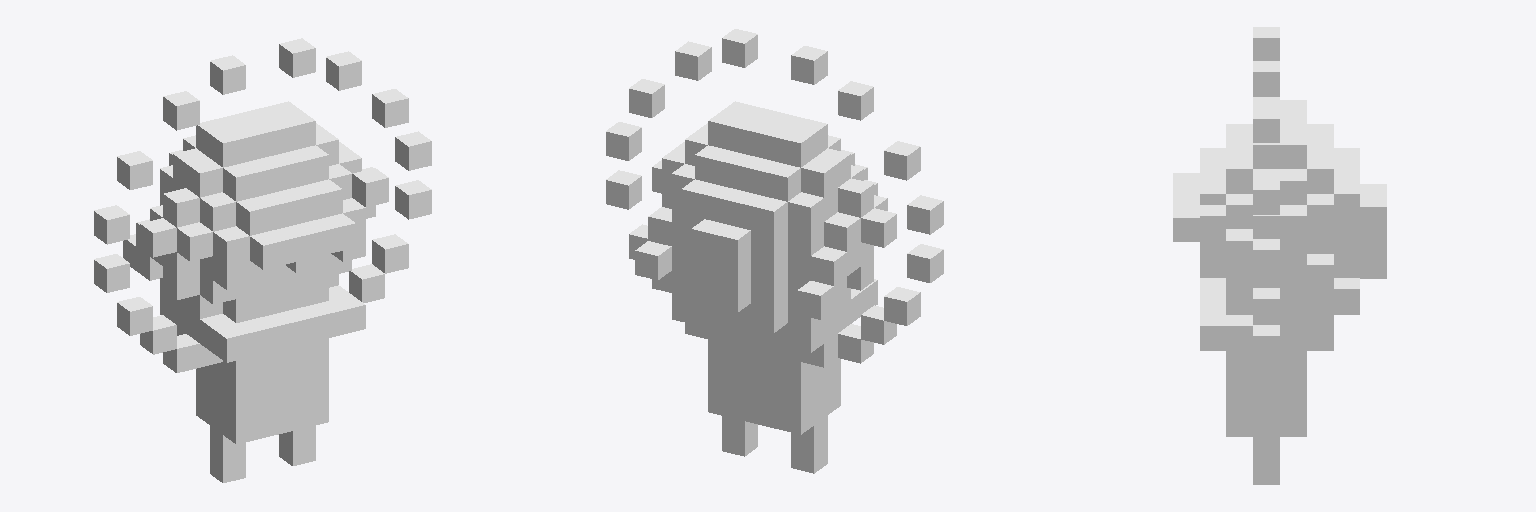
The model's file is people003.obj.
3 views of the same model, side by side, from view 1: azimuth 30°, elevation 25°; view 2: azimuth 150°, elevation 25°; view 3: azimuth 270°, elevation 25° (orthographic).
Visible parts, largest first — view 1: people003; view 2: people003; view 3: people003.
Part boxes in pixels (x1,y1,x2,y2): people003: (94,38,431,482); people003: (606,29,943,473); people003: (1173,27,1386,484).
Bounding box in the file's own units: 14 × 17 × 8.